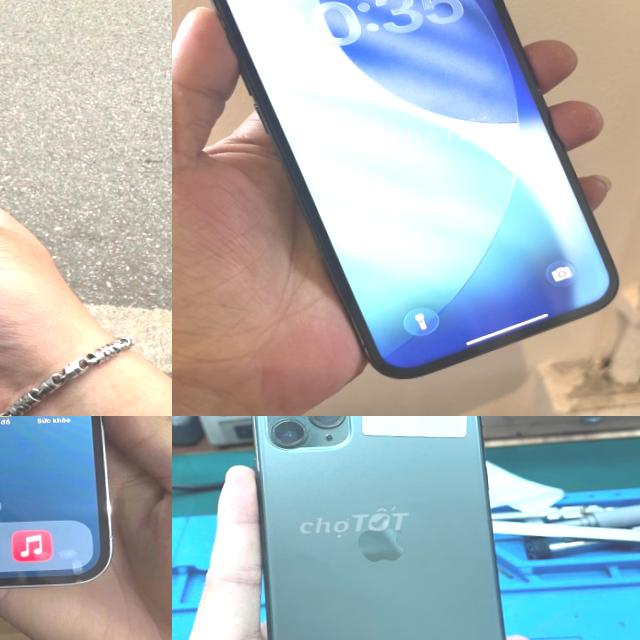gen_11: (249, 416, 520, 640)
gen_12_13: (211, 0, 616, 377), (0, 416, 126, 601)
